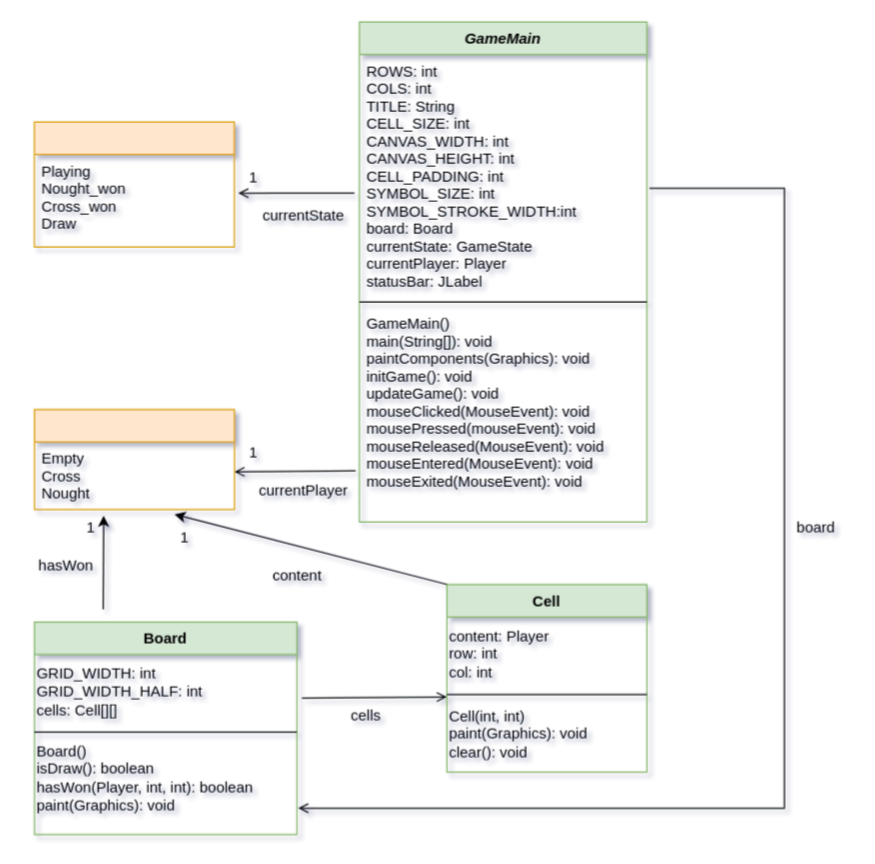
Image size: 875x864. Some labels were removed from this diagram. The box of each missing label's shape, as (x1, y1, x2, y2) in pixels:
GameState: (33, 121, 234, 247)
Player: (33, 408, 234, 509)
